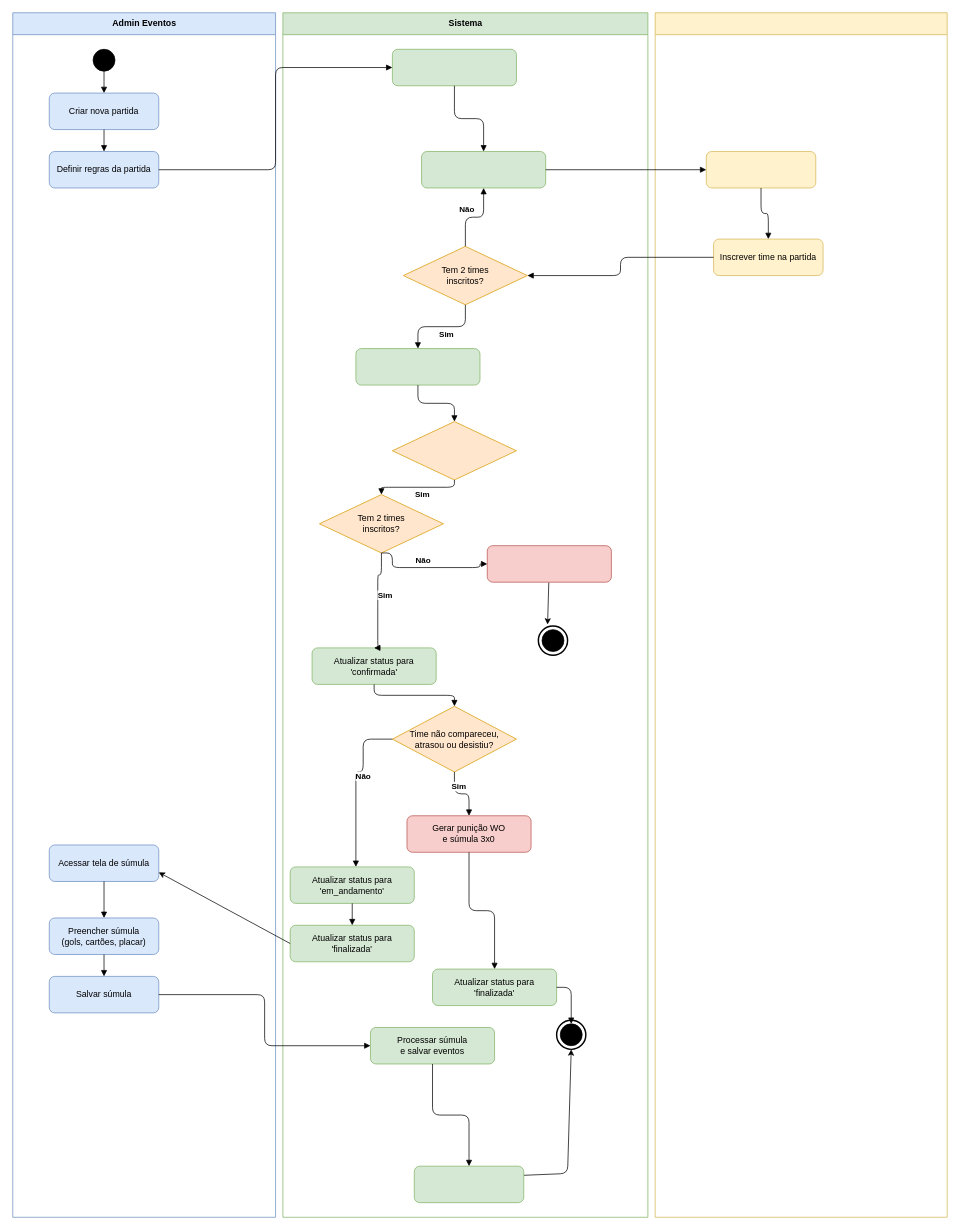
This 960x1230 diagram has some shape labels left out. Here are the shapes that lost their labels. From the top down, the box of each, then its label:
(392, 49, 516, 86): Salvar partida no banco Status: 'aberta'
(421, 151, 546, 188): Habilitar inscrições de times
(706, 151, 816, 188): Visualizar partidas disponíveis
(355, 348, 480, 385): Atualizar status para 'sem_vagas'
(392, 421, 516, 480): Prazo de inscrição passou?
(487, 545, 611, 582): Atualizar status para 'cancelada'
(654, 12, 947, 1217): Admin Times
(414, 1165, 524, 1203): Atualizar estatísticas de jogadores
